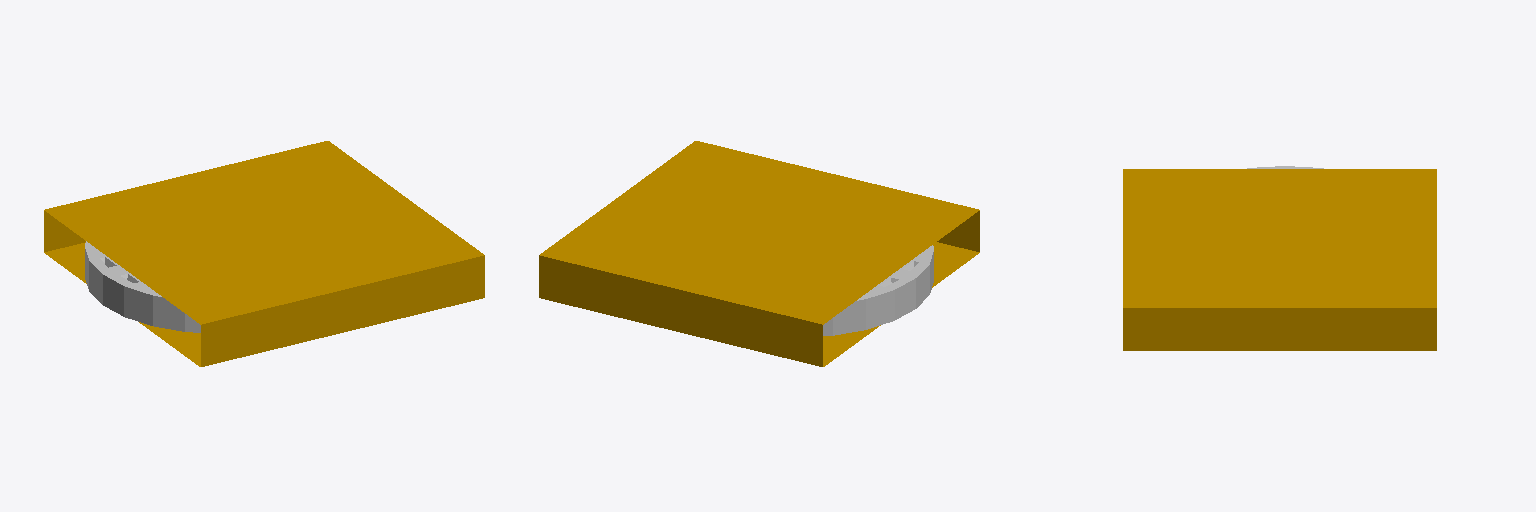
Rendered from waffle with bag.obj.
3 views of the same model, side by side, from view 1: azimuth 30°, elevation 25°; view 2: azimuth 150°, elevation 25°; view 3: azimuth 270°, elevation 25° (orthographic).
Parts seen in each view (by area): view 1: Mesh1 Group1 Model, Mesh2 Waffle1 Model; view 2: Mesh1 Group1 Model, Mesh2 Waffle1 Model; view 3: Mesh1 Group1 Model.
Boxes of the visible parts, box(x1,y1,x2,y2) form: Mesh1 Group1 Model: box(44, 141, 484, 366); Mesh2 Waffle1 Model: box(85, 241, 200, 332); Mesh1 Group1 Model: box(539, 141, 979, 366); Mesh2 Waffle1 Model: box(823, 245, 933, 335); Mesh1 Group1 Model: box(1123, 169, 1436, 350).
Bounding box in the file's own units: 0.2434 × 0.033 × 0.2196.